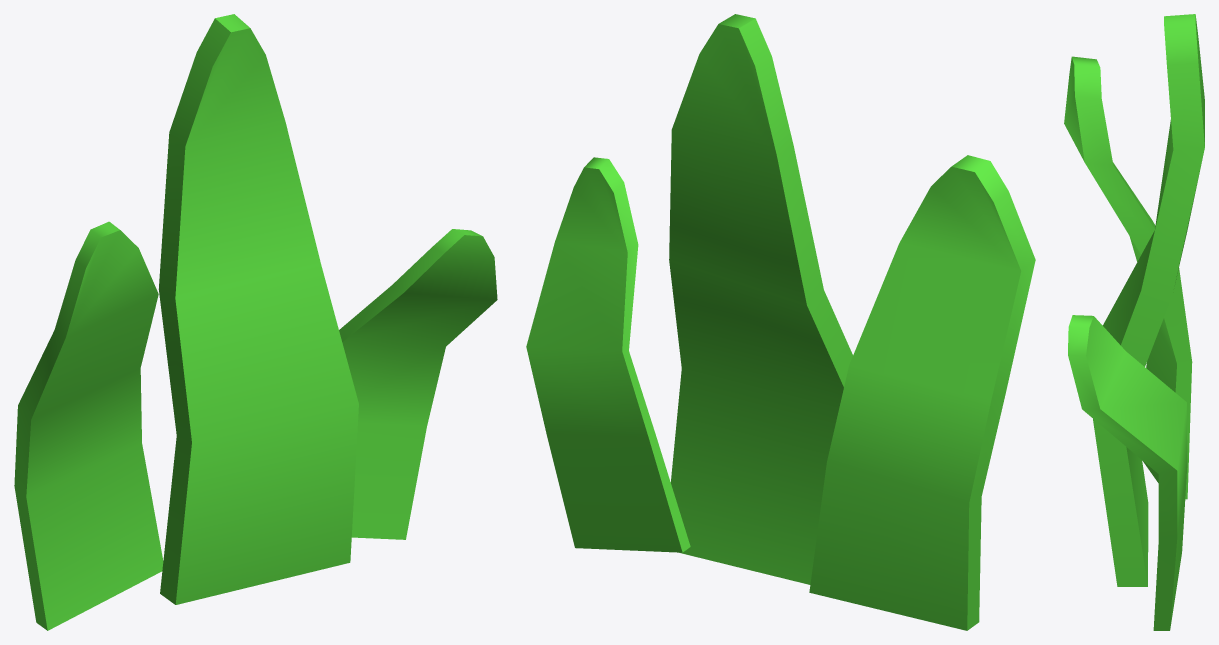
Rendered from grass4.fbx.
3 renders of one model, left to right at view 1: azimuth 30°, elevation 25°; view 2: azimuth 150°, elevation 25°; view 3: azimuth 270°, elevation 25°, orthographic. The views are drawn at different scales.
Visible parts, largest first — view 1: grass4; view 2: grass4; view 3: grass4.
Part boxes in pixels (bbox=[...]): grass4: bbox=[14, 14, 497, 630]; grass4: bbox=[526, 14, 1035, 630]; grass4: bbox=[1064, 14, 1204, 630].
Size of the model in its own units: 0.3402 by 0.4009 by 0.0955.
